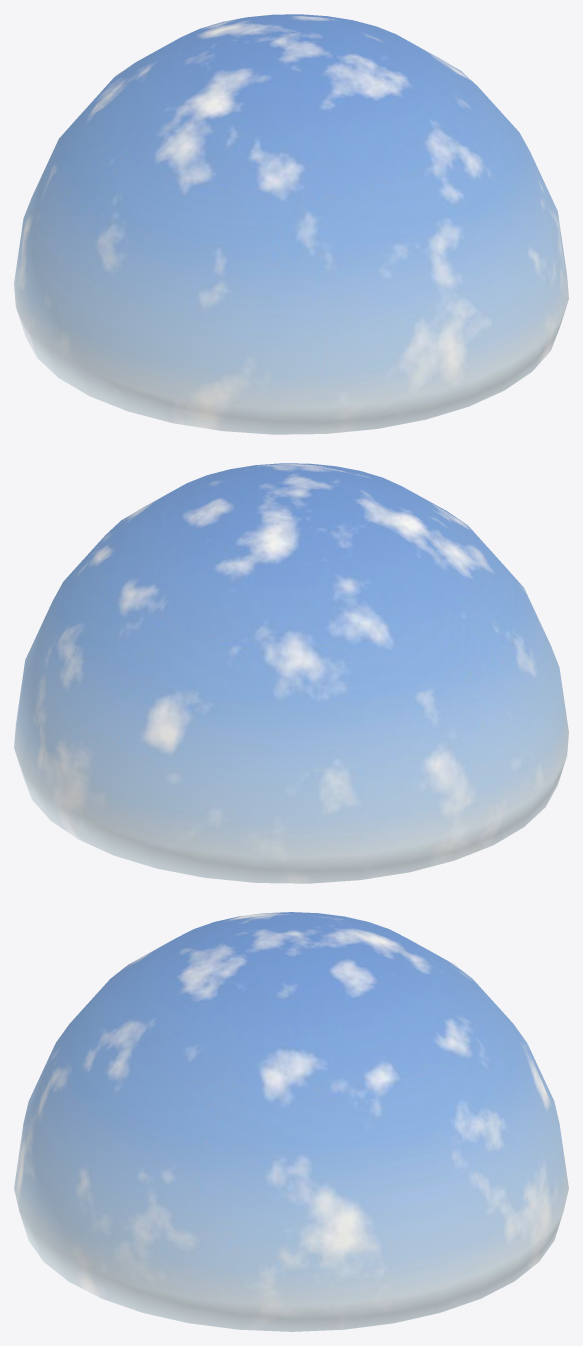
Rendered from mad_tea_party.glb.
3 renders of one model, top to bottom at view 1: azimuth 30°, elevation 25°; view 2: azimuth 150°, elevation 25°; view 3: azimuth 270°, elevation 25°, orthographic.
Parts seen in each view (by area): view 1: MESH_SkyDome; view 2: MESH_SkyDome; view 3: MESH_SkyDome.
Part boxes in pixels (x1,y1,x2,y2): MESH_SkyDome: (14, 14, 568, 434); MESH_SkyDome: (14, 463, 568, 883); MESH_SkyDome: (14, 912, 568, 1331).
Size of the model in its own units: 90 by 50.4 by 90.
26 materials, 26 textured.
